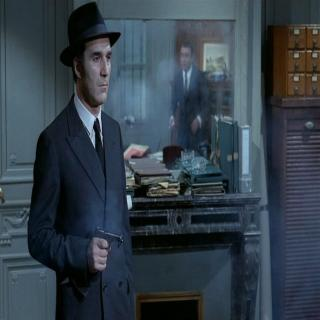gun: (90, 224, 124, 275)
